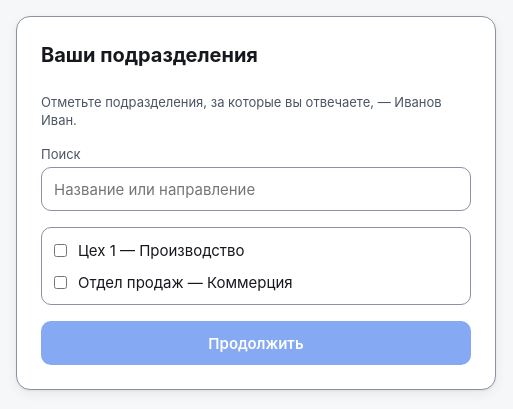
Test: поиск фильтрует список подразделений
Type "продаж" into the field labelled "Поиск" at [256, 189], box [41, 167, 471, 211]
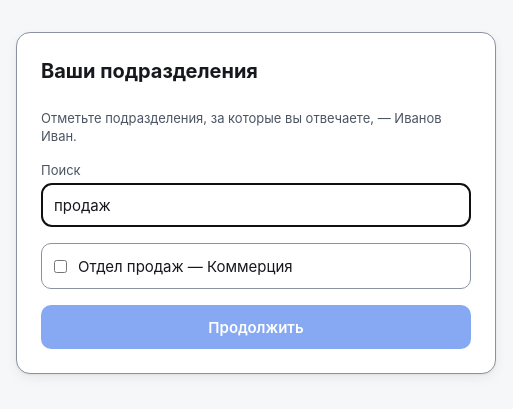
Expected: the text "Отдел продаж — Коммерция" is shown, [54, 257, 293, 276]
Now the text "Цех 1" is gone
